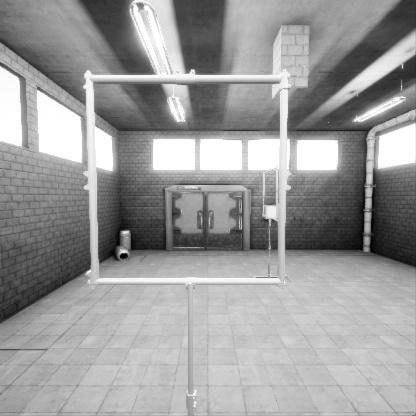gate: (103, 146, 298, 337), (263, 197, 278, 252)
